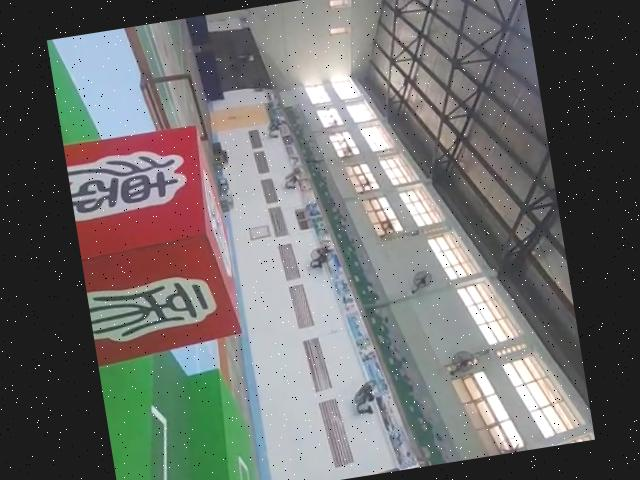R2 Fake: (62, 122, 247, 370)
